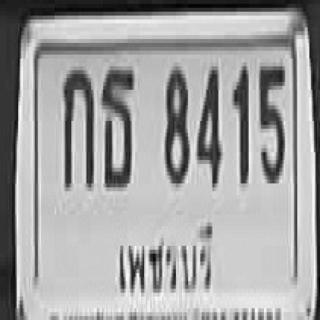A01: (62, 64, 96, 191)
A24: (100, 62, 134, 190)
N01: (232, 60, 249, 185)
N04: (196, 62, 222, 190)
N05: (258, 62, 285, 183)
N08: (164, 61, 190, 185)
P44: (114, 208, 214, 302)
